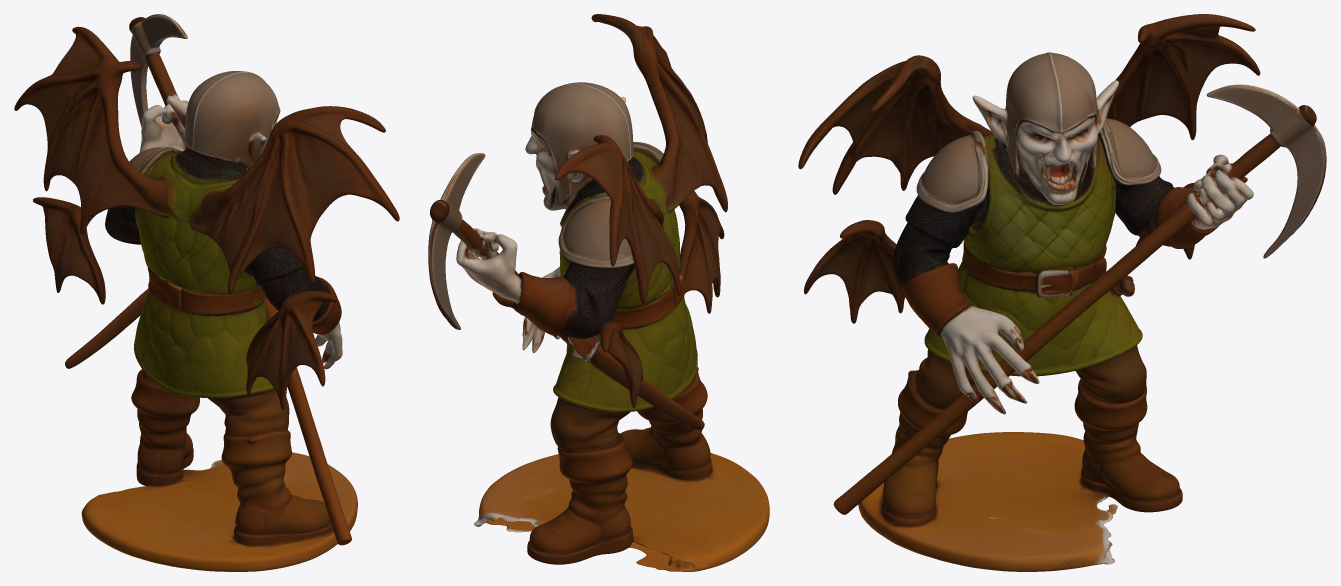
3 views of the same model, side by side, from view 1: azimuth 30°, elevation 25°; view 2: azimuth 150°, elevation 25°; view 3: azimuth 270°, elevation 25° (orthographic). The views are drawn at different scales.
Parts seen in each view (by area): view 1: tripo_node_aa547180-d851-4eed-855b-ccf4e44baf7a; view 2: tripo_node_aa547180-d851-4eed-855b-ccf4e44baf7a; view 3: tripo_node_aa547180-d851-4eed-855b-ccf4e44baf7a.
Boxes of the visible parts, box(x1,y1,x2,y2) form: tripo_node_aa547180-d851-4eed-855b-ccf4e44baf7a: box(14, 14, 399, 571); tripo_node_aa547180-d851-4eed-855b-ccf4e44baf7a: box(428, 14, 769, 571); tripo_node_aa547180-d851-4eed-855b-ccf4e44baf7a: box(798, 14, 1326, 571).
Size of the model in its own units: 0.5813 by 0.9912 by 0.9999.
Materials: 1 (1 with a texture image).
